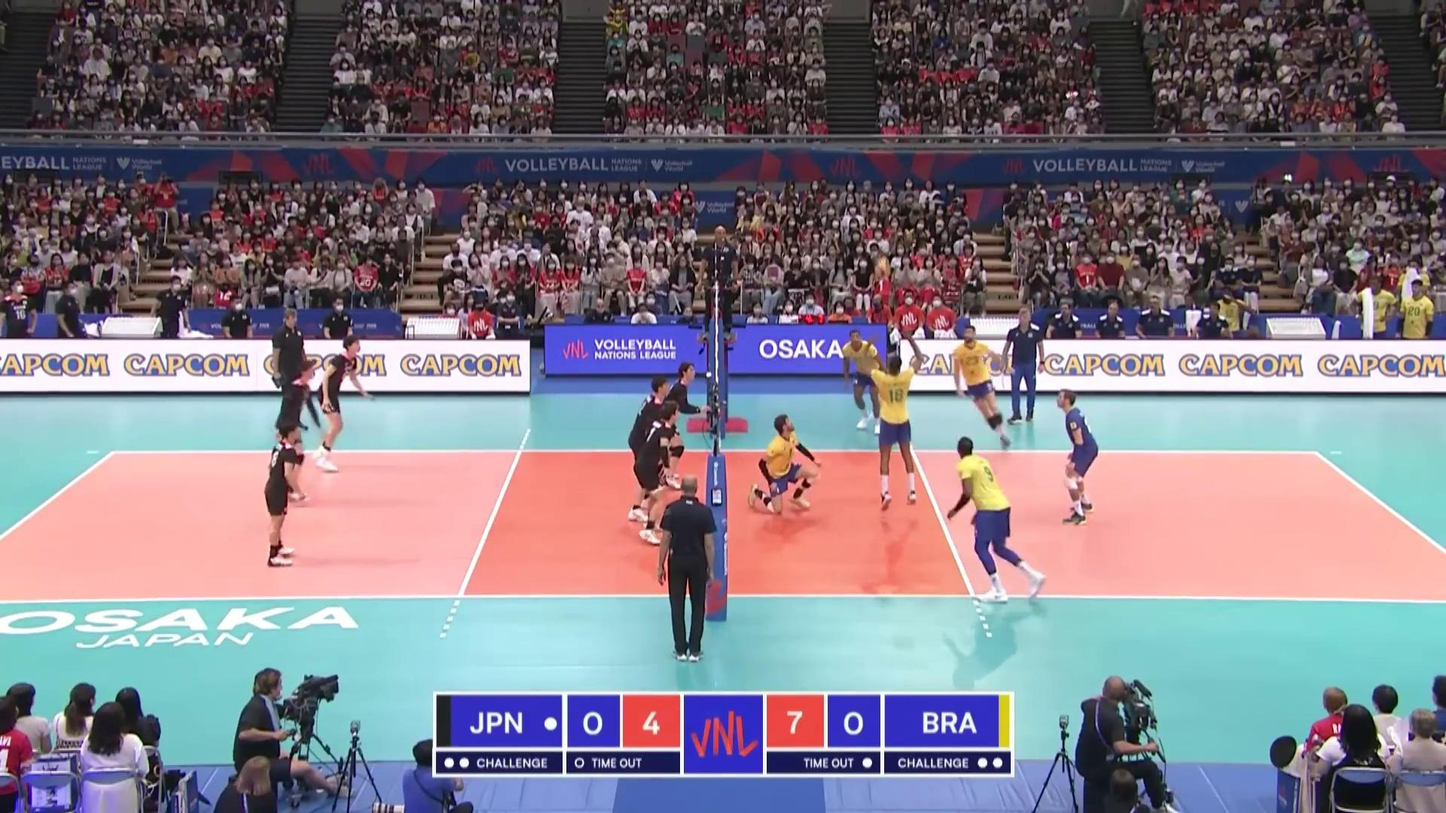player: (945, 439, 1045, 598), (862, 350, 926, 511), (950, 322, 1013, 450), (748, 414, 822, 516), (311, 339, 364, 472), (636, 400, 682, 546), (627, 376, 672, 523), (271, 362, 314, 504), (1055, 389, 1100, 524), (263, 421, 302, 567), (659, 362, 703, 491), (840, 331, 889, 434)
refree: (656, 475, 717, 666), (703, 227, 738, 338)
